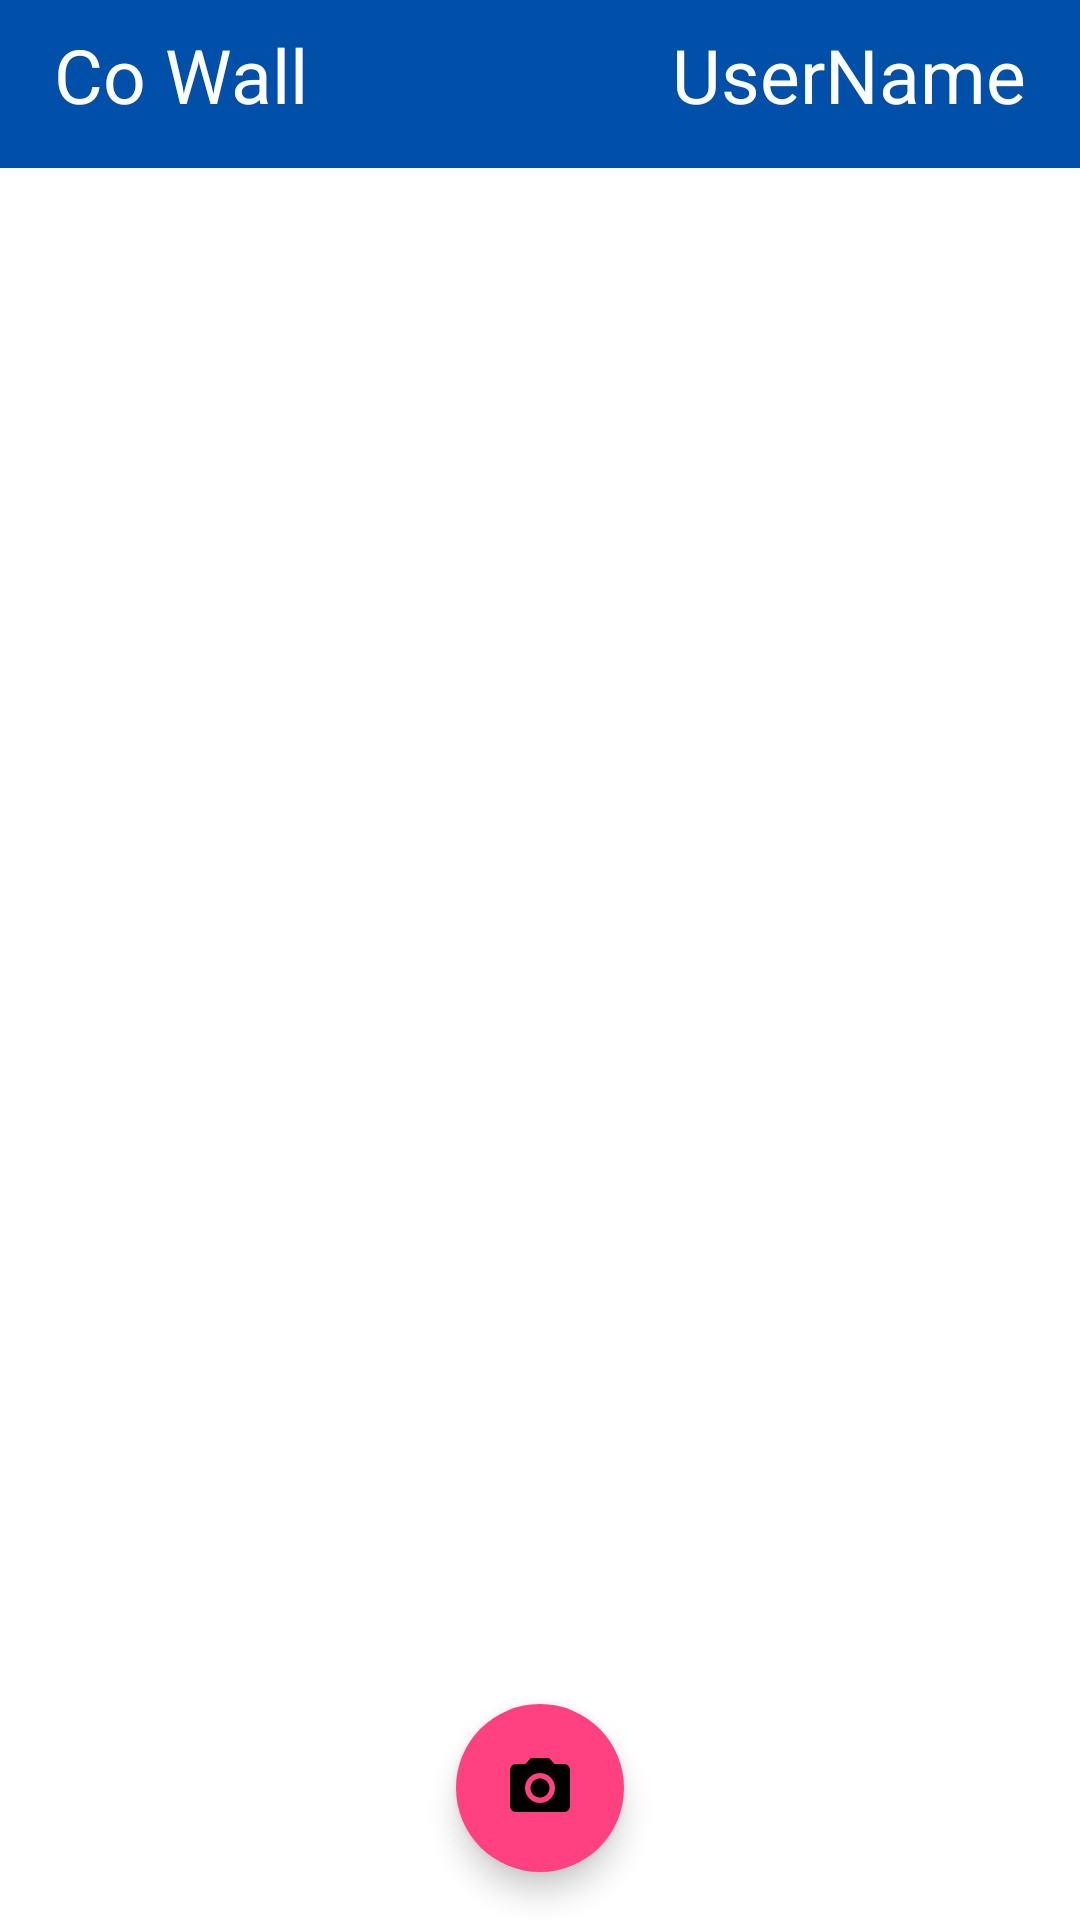

Where to tap for icons on this 1080px×1920px app screen, as (x=x, y=y):
photo camera: (x=540, y=1788)
